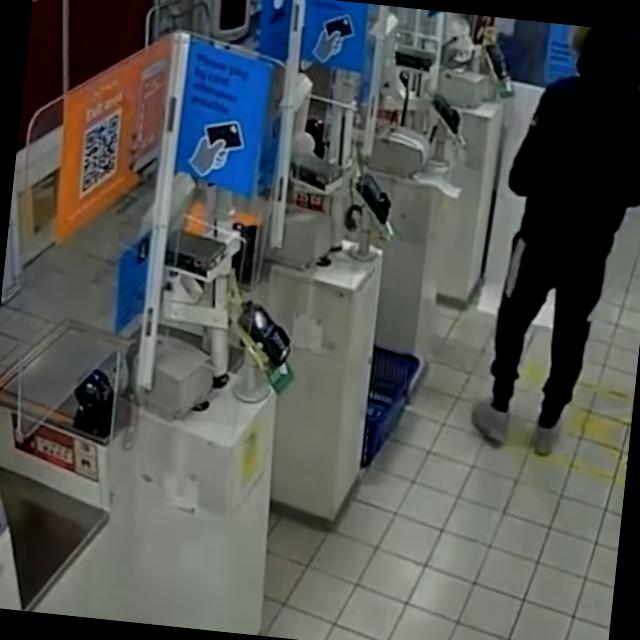person: (467, 18, 640, 464)
